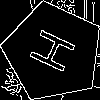H: (28, 27, 85, 79)
